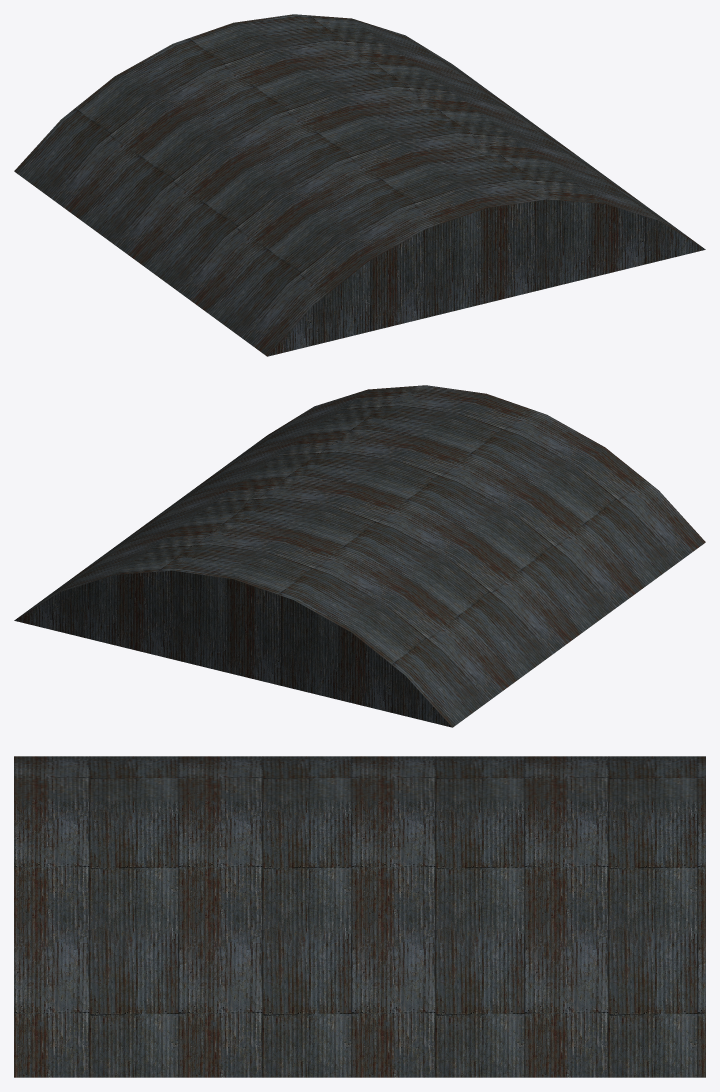
The model's file is warehouse_hs_1_roof_1.glb.
3 views of the same model, one above another, from view 1: azimuth 30°, elevation 25°; view 2: azimuth 150°, elevation 25°; view 3: azimuth 270°, elevation 25° (orthographic). The views are drawn at different scales.
Parts seen in each view (by area): view 1: warehouse_hs_1_roof_1; view 2: warehouse_hs_1_roof_1; view 3: warehouse_hs_1_roof_1.
Boxes of the visible parts, bbox=[...] form: warehouse_hs_1_roof_1: bbox=[14, 14, 705, 356]; warehouse_hs_1_roof_1: bbox=[14, 385, 705, 727]; warehouse_hs_1_roof_1: bbox=[14, 756, 705, 1077].
Size of the model in its own units: 8 by 1.66 by 8.
Materials: 2 (2 with a texture image).
